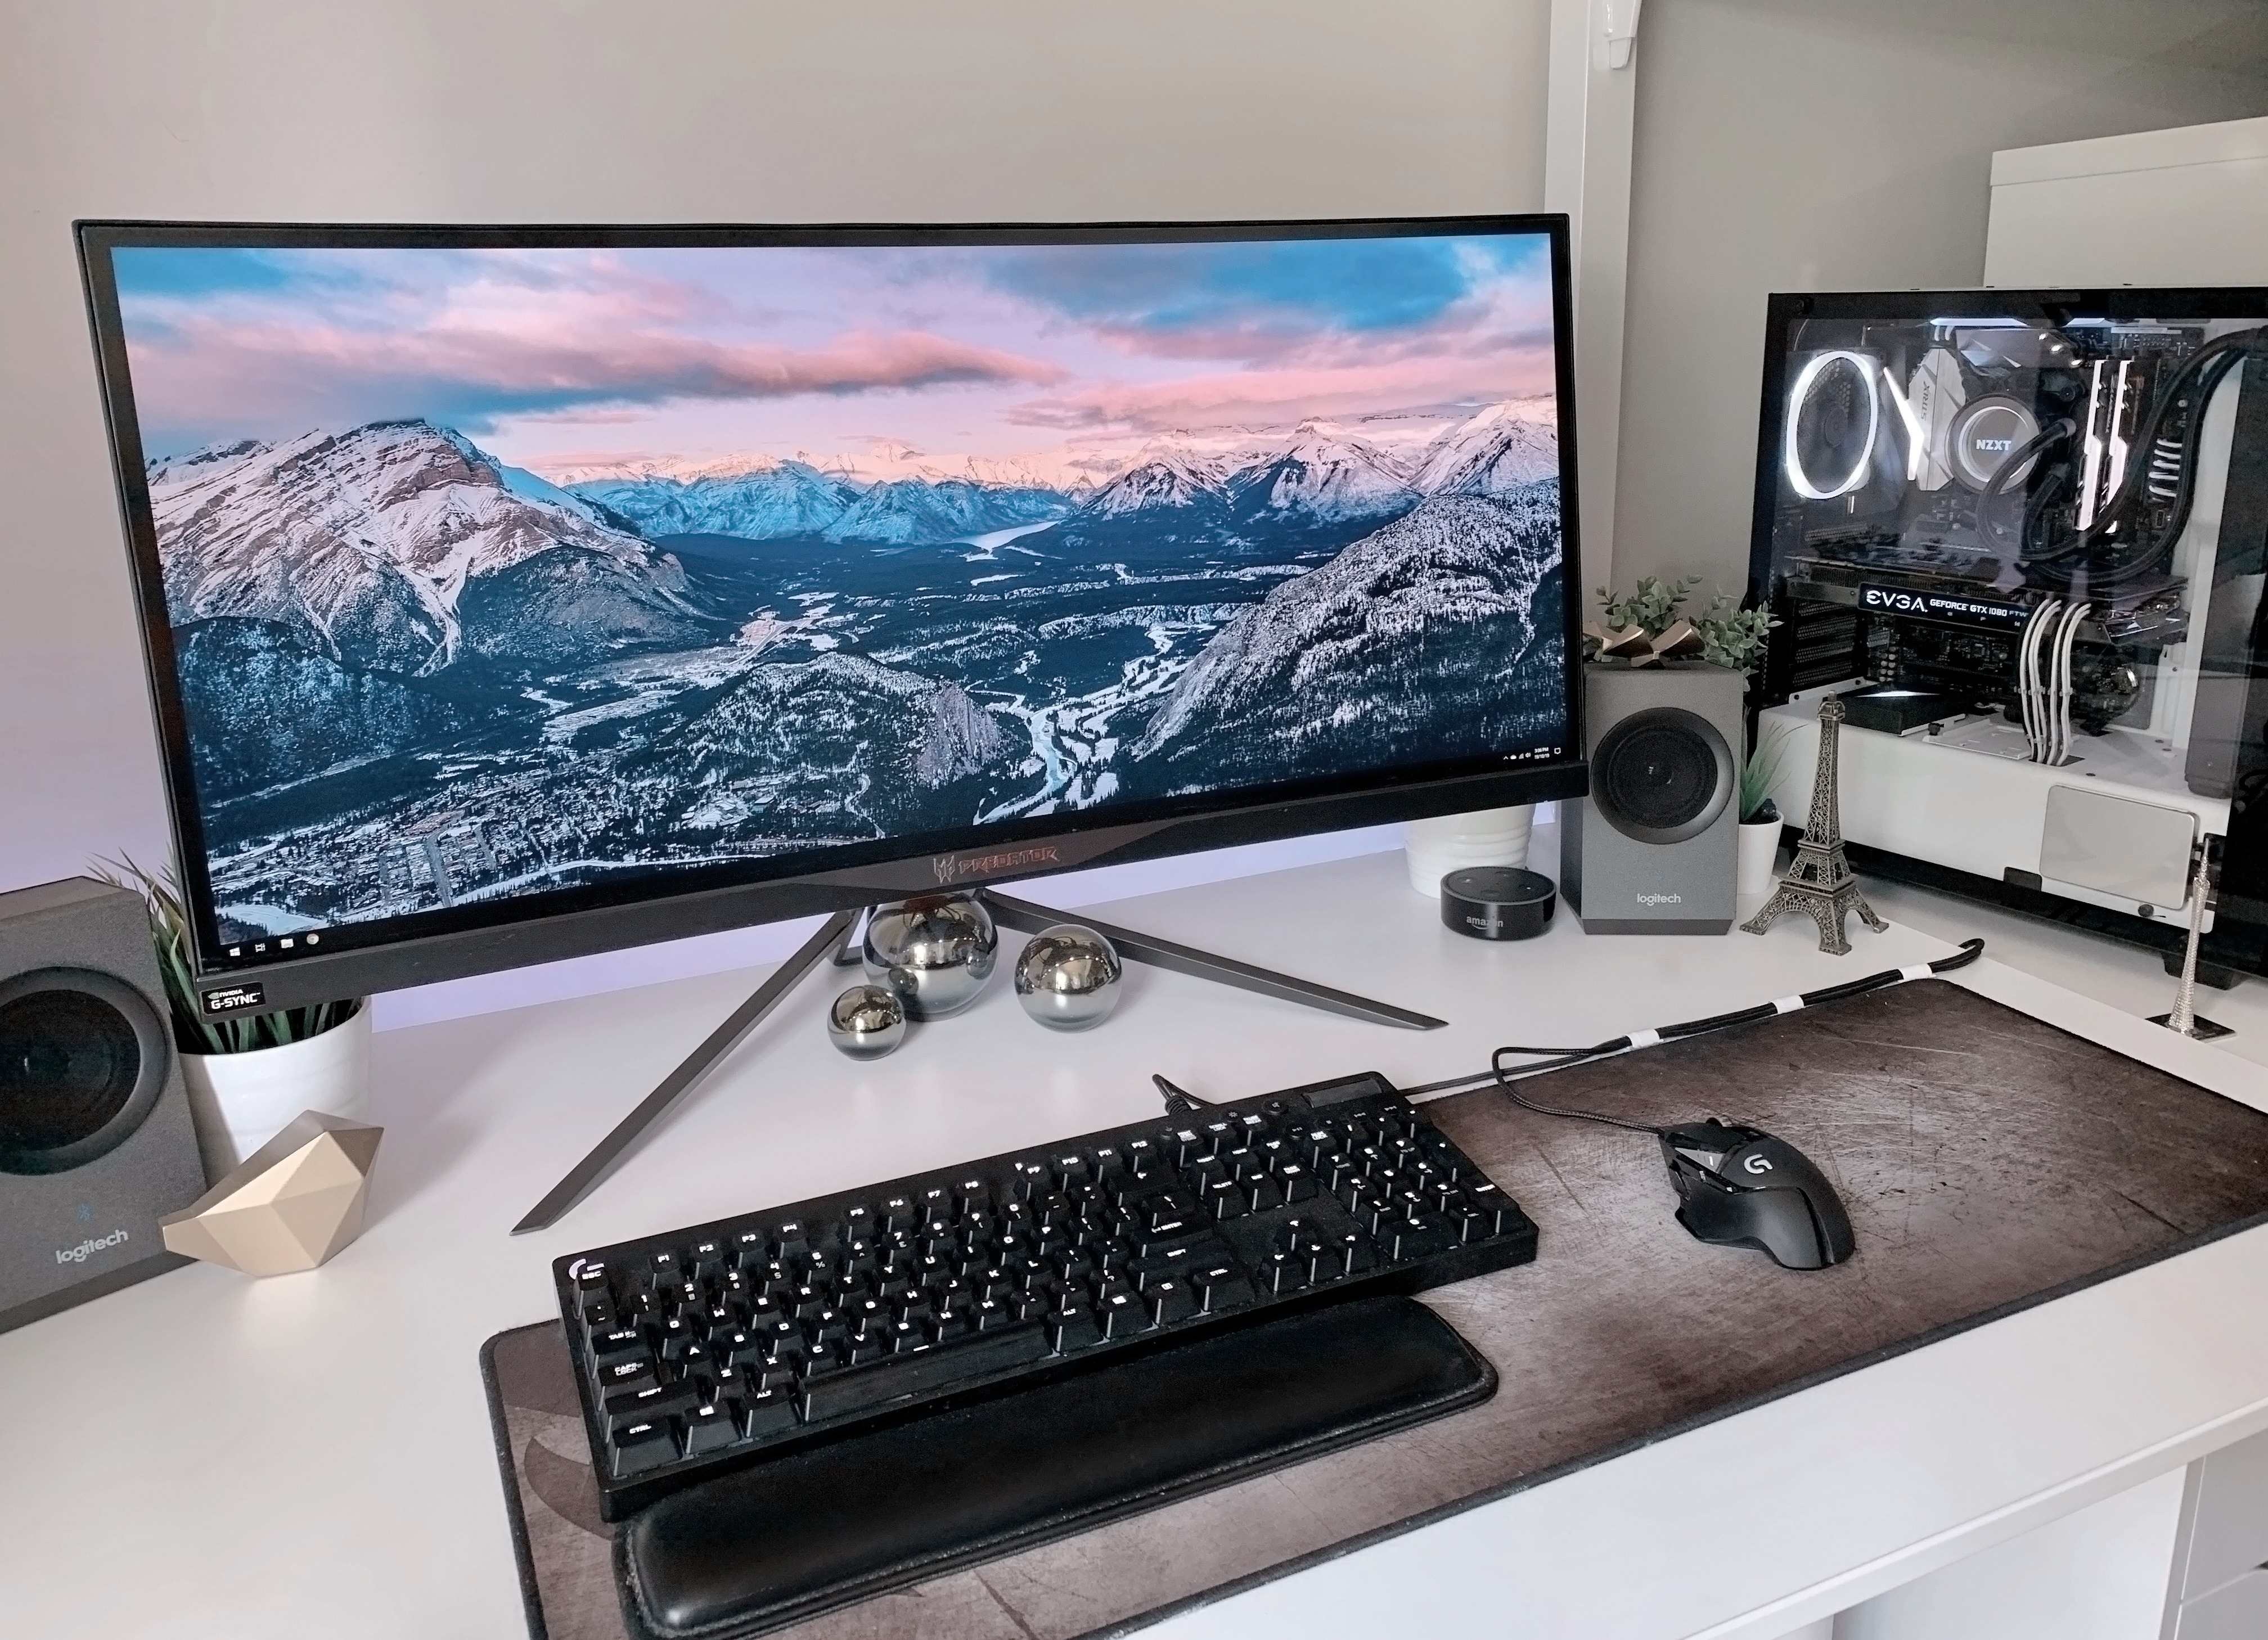Decoration (Generic): (794, 860, 1143, 1066), (157, 1119, 407, 1270)
Decoration (Miniature): (1731, 683, 1888, 957), (2132, 832, 2233, 1047)
Decoration (Plant): (109, 855, 401, 1209), (1551, 544, 1754, 904), (1384, 628, 1553, 908), (1706, 764, 1787, 899)
Desk (Generic): (7, 818, 2268, 1640)
Desktop (Windows): (1740, 285, 2268, 966)
External Speakers (Generic): (0, 873, 224, 1304), (1558, 653, 1747, 950)
IoT Devices (Raspberry, Arduino, etc): (1426, 848, 1571, 961)
Keyboard (Generic): (556, 1047, 1564, 1526)
Monitor (Landscape): (70, 199, 1601, 1248)
Mouse (Gaming): (1631, 1102, 1858, 1276)
Mousepad (Gaming): (468, 970, 2268, 1640)
